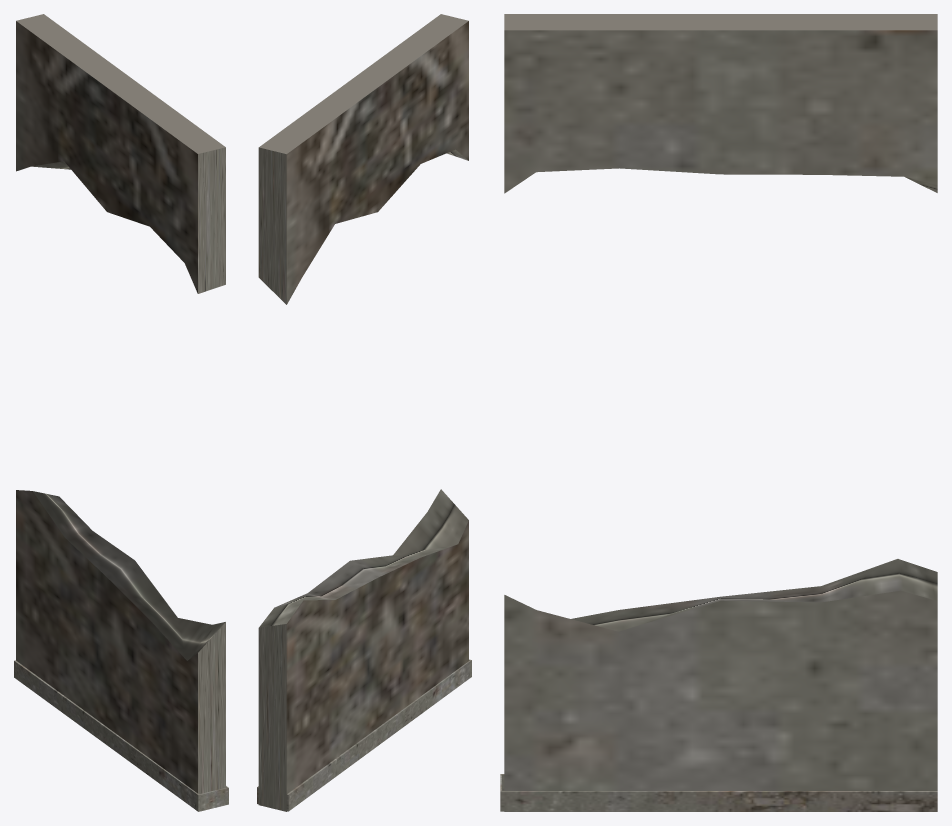
The model's file is block_wall_cross_top.fbx.
The picture shows the model from 3 angles, left to right: view 1: azimuth 30°, elevation 25°; view 2: azimuth 150°, elevation 25°; view 3: azimuth 270°, elevation 25°; orthographic projection. The views are drawn at different scales.
Visible parts, largest first — view 1: Cube.001, WallLeft.001; view 2: Cube.001, WallLeft.001; view 3: Cube.001, WallLeft.001.
Part boxes in pixels (x1=…): Cube.001: x1=16, y1=14, x2=225, y2=794; WallLeft.001: x1=14, y1=660, x2=228, y2=811; Cube.001: x1=258, y1=14, x2=468, y2=811; WallLeft.001: x1=257, y1=659, x2=471, y2=811; Cube.001: x1=504, y1=14, x2=937, y2=811; WallLeft.001: x1=500, y1=774, x2=937, y2=811.
Size of the model in its own units: 39.85 by 796 by 404.
